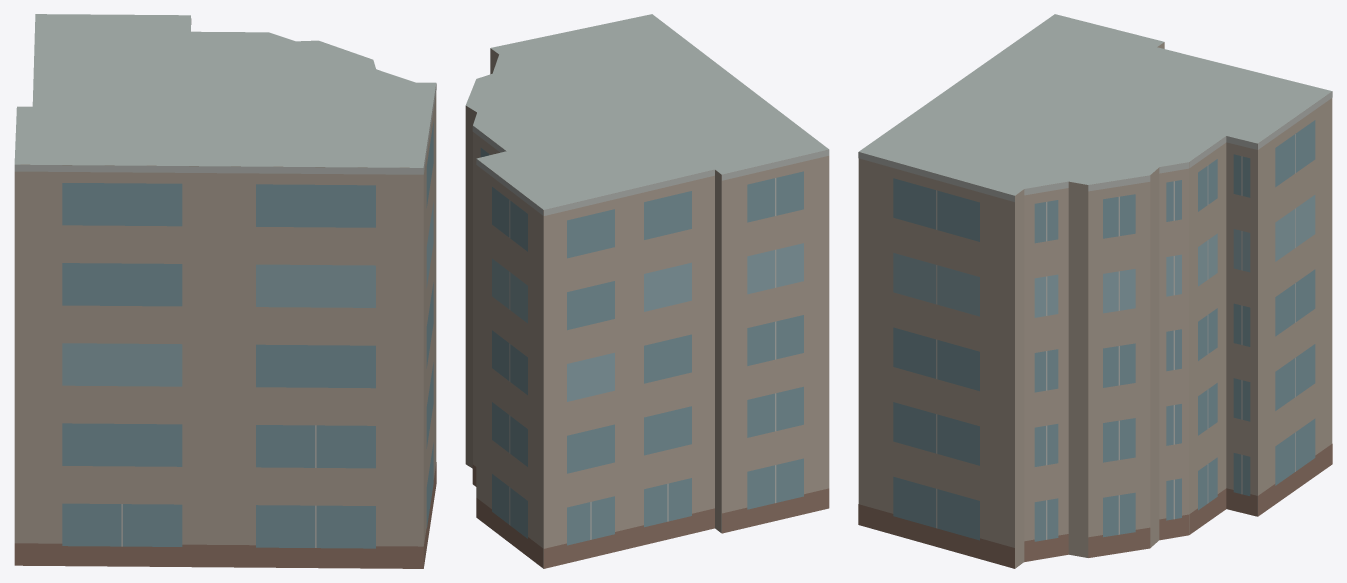
The model's file is survey-upis-32621423.glb.
The picture shows the model from 3 angles, left to right: view 1: azimuth 30°, elevation 25°; view 2: azimuth 150°, elevation 25°; view 3: azimuth 270°, elevation 25°; orthographic projection. The views are drawn at different scales.
Parts seen in each view (by area): view 1: survey-upis-32621423.tmp; view 2: survey-upis-32621423.tmp; view 3: survey-upis-32621423.tmp.
Boxes of the visible parts, x1,y1,x2,y2 form: survey-upis-32621423.tmp: (14, 14, 436, 568); survey-upis-32621423.tmp: (465, 14, 829, 568); survey-upis-32621423.tmp: (858, 14, 1332, 568).
Size of the model in its own units: 14.85 by 14.2 by 16.36.
